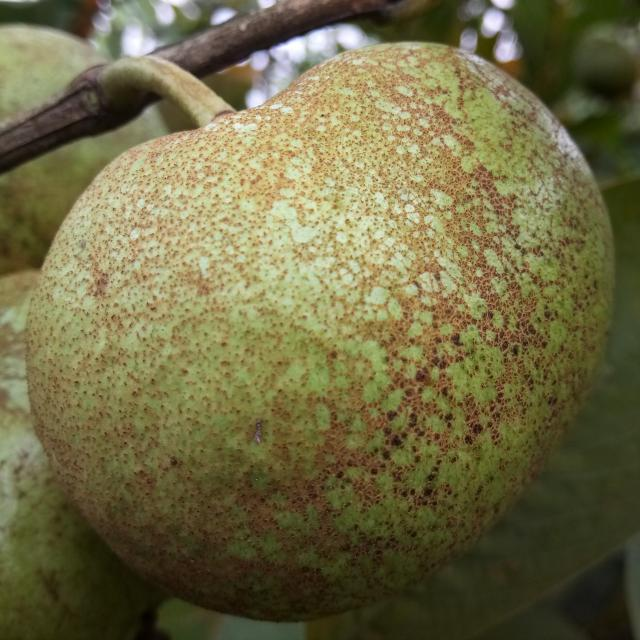Scab: (28, 44, 612, 620)
